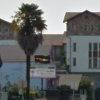Palm tree: (8, 3, 45, 96)
